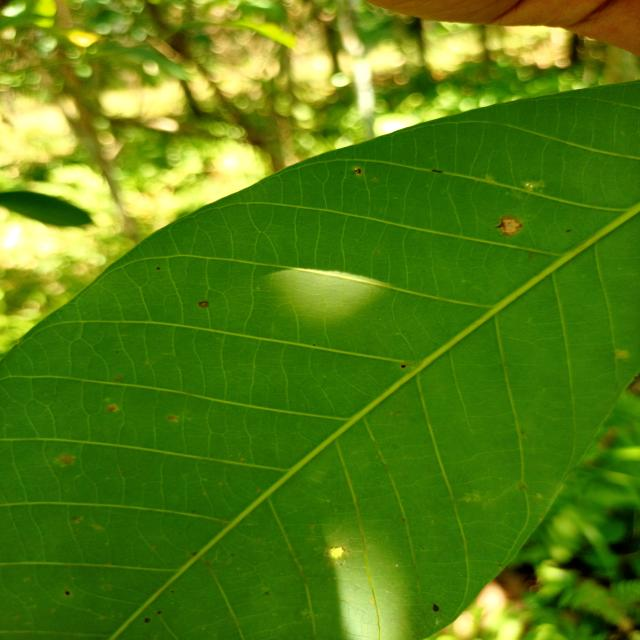Colletotrichum: (198, 301, 208, 308), (433, 604, 439, 612), (401, 365, 406, 368)
Leaf-Blight: (500, 215, 522, 237)
